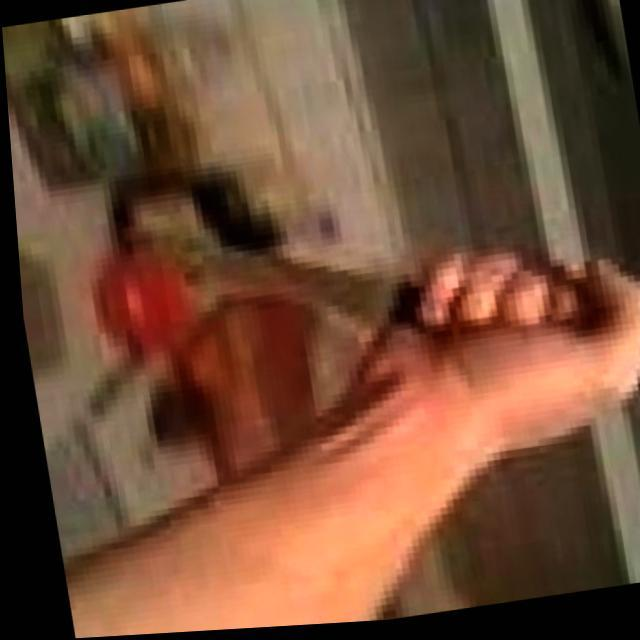knife: (124, 193, 640, 470)
